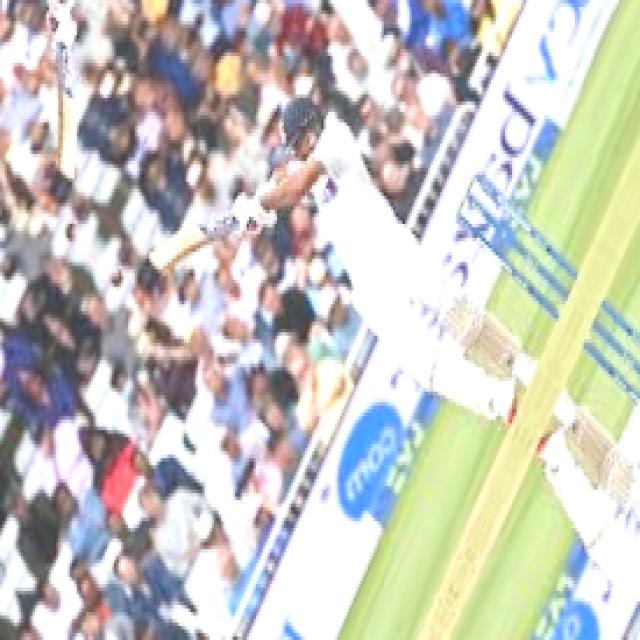toe: (146, 251, 170, 281)
